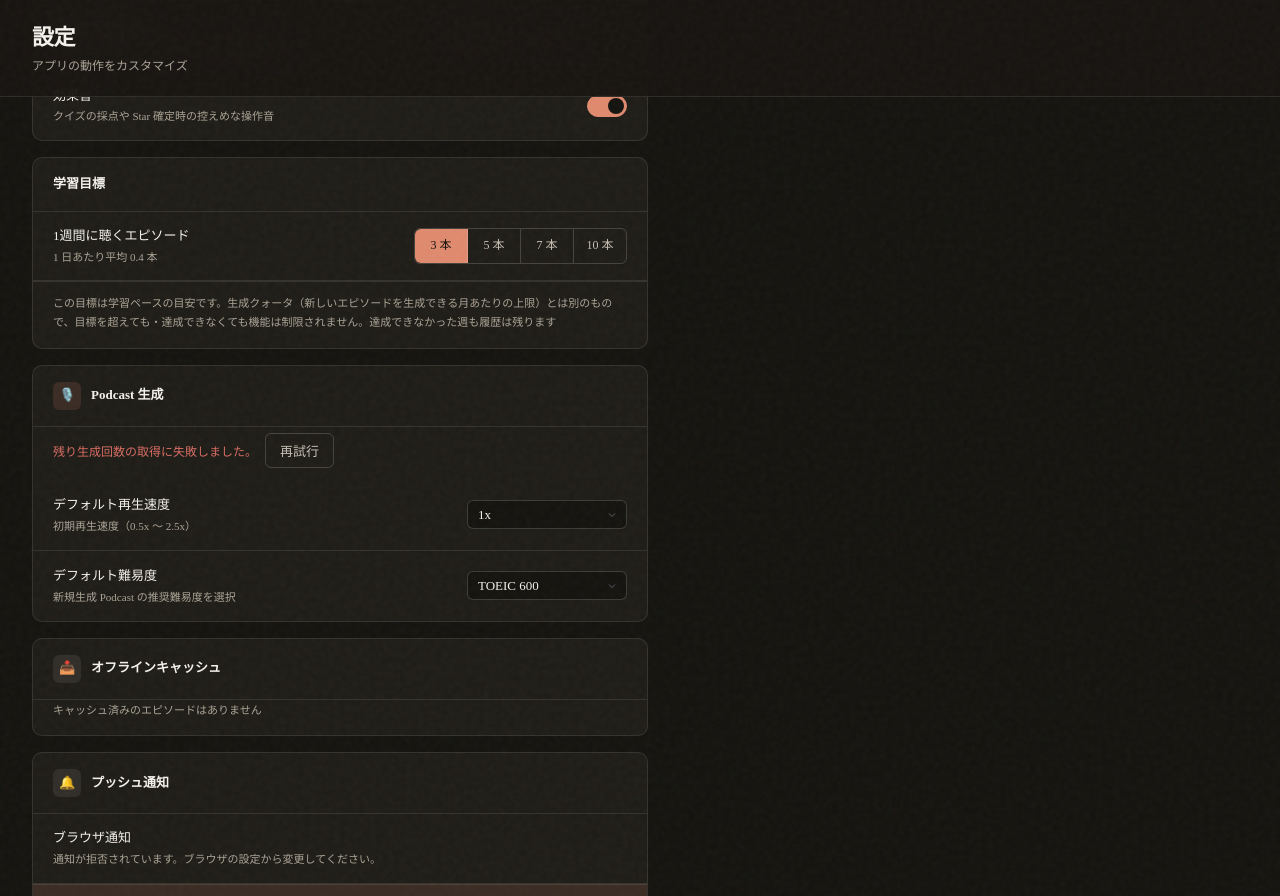
Test: SettingsPage — generation quota (issue #164) › Given getGenerationQuota fails, shows an inline error with a retry button that refetches
(page scrolled)
Click the button with aria-label "残り生成回数を再読み込み".
click(300, 450)  # box x1=265 y1=433 x2=334 y2=468
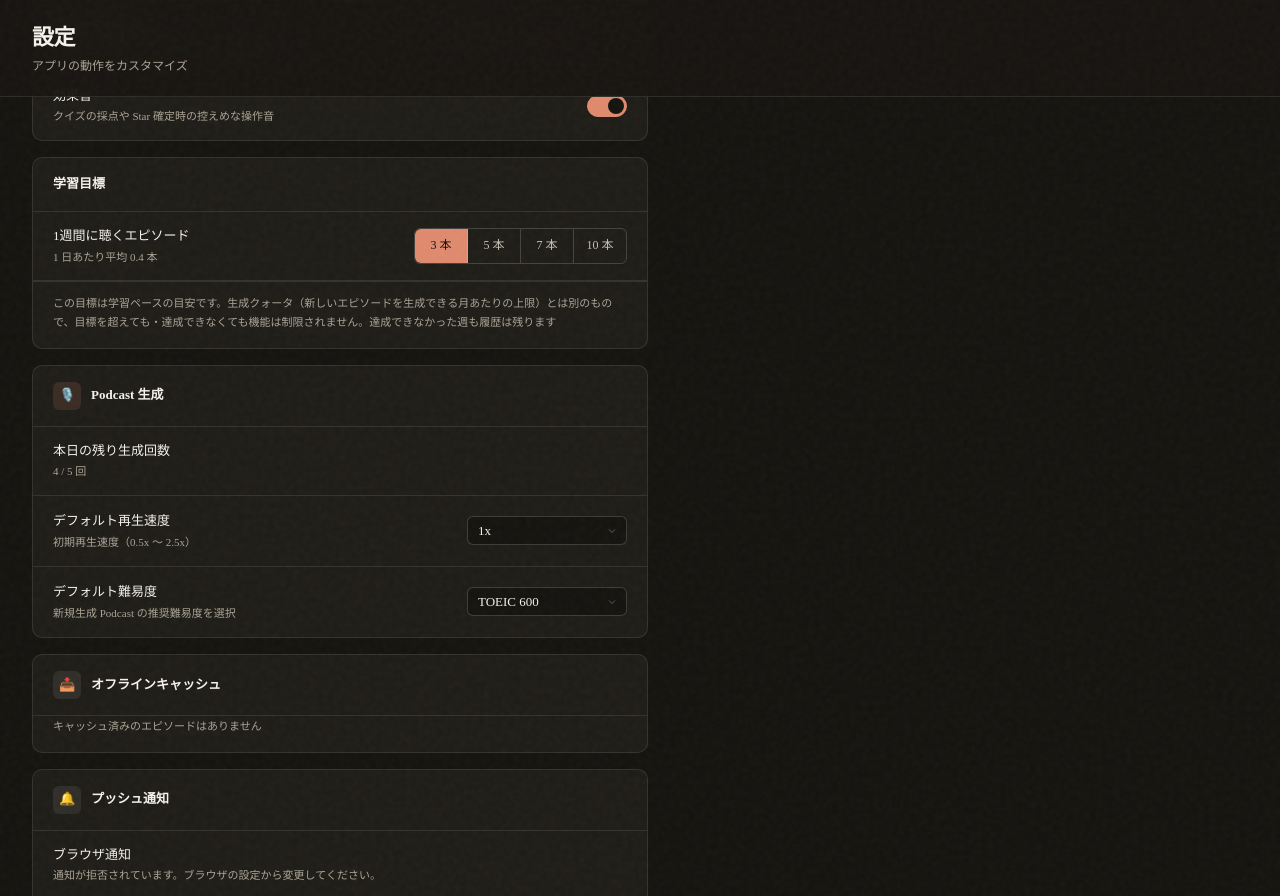
Now the text "4 / 5 回" is shown, box x1=53 y1=465 x2=86 y2=477
